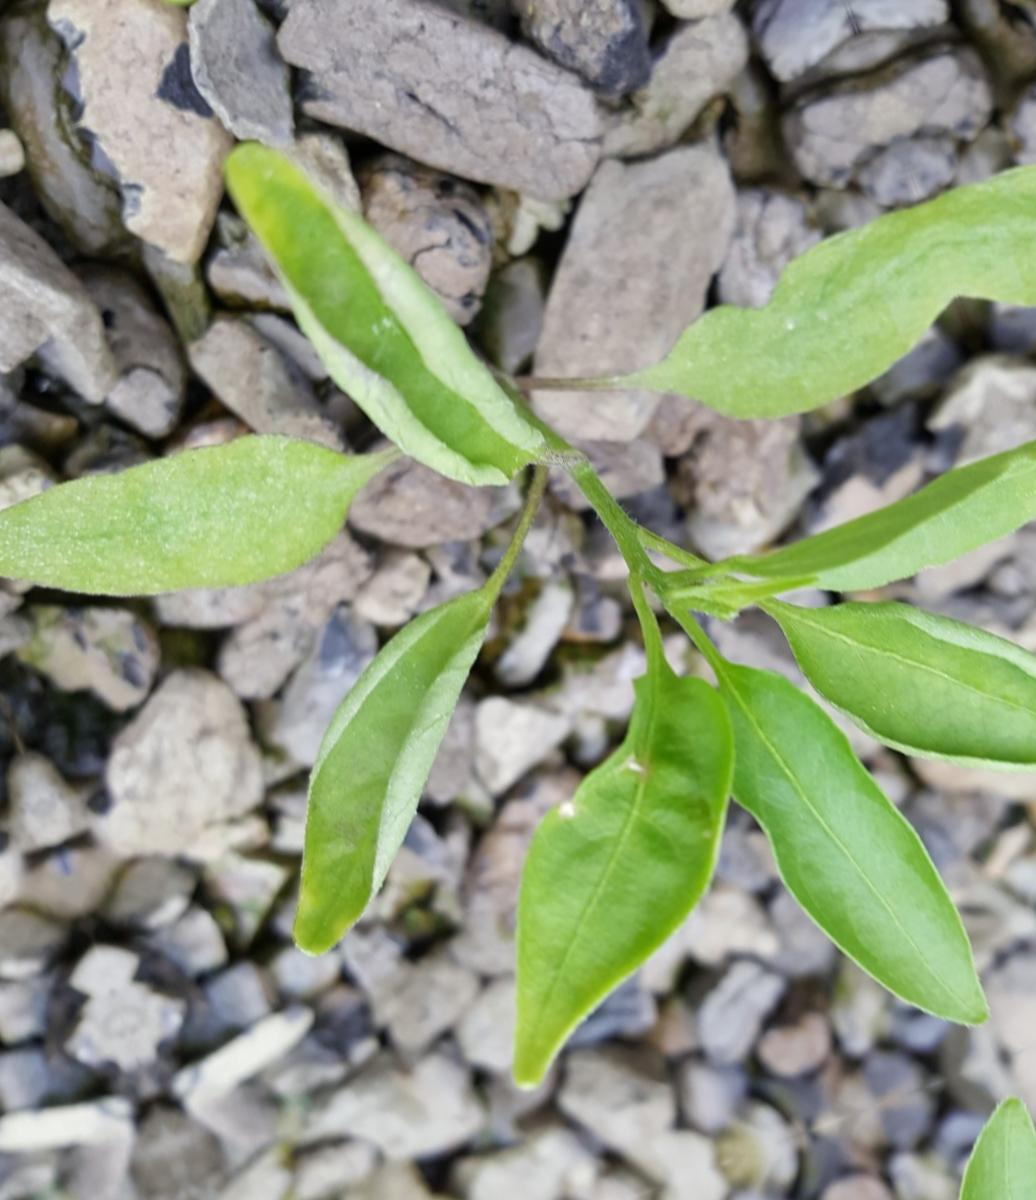Tomato leaf: (374, 649, 839, 1119), (637, 564, 1023, 1089), (194, 562, 616, 971), (0, 353, 416, 691), (611, 206, 978, 471)
